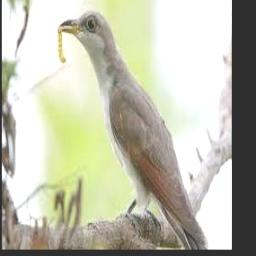Cuckoo: (59, 11, 208, 250)
